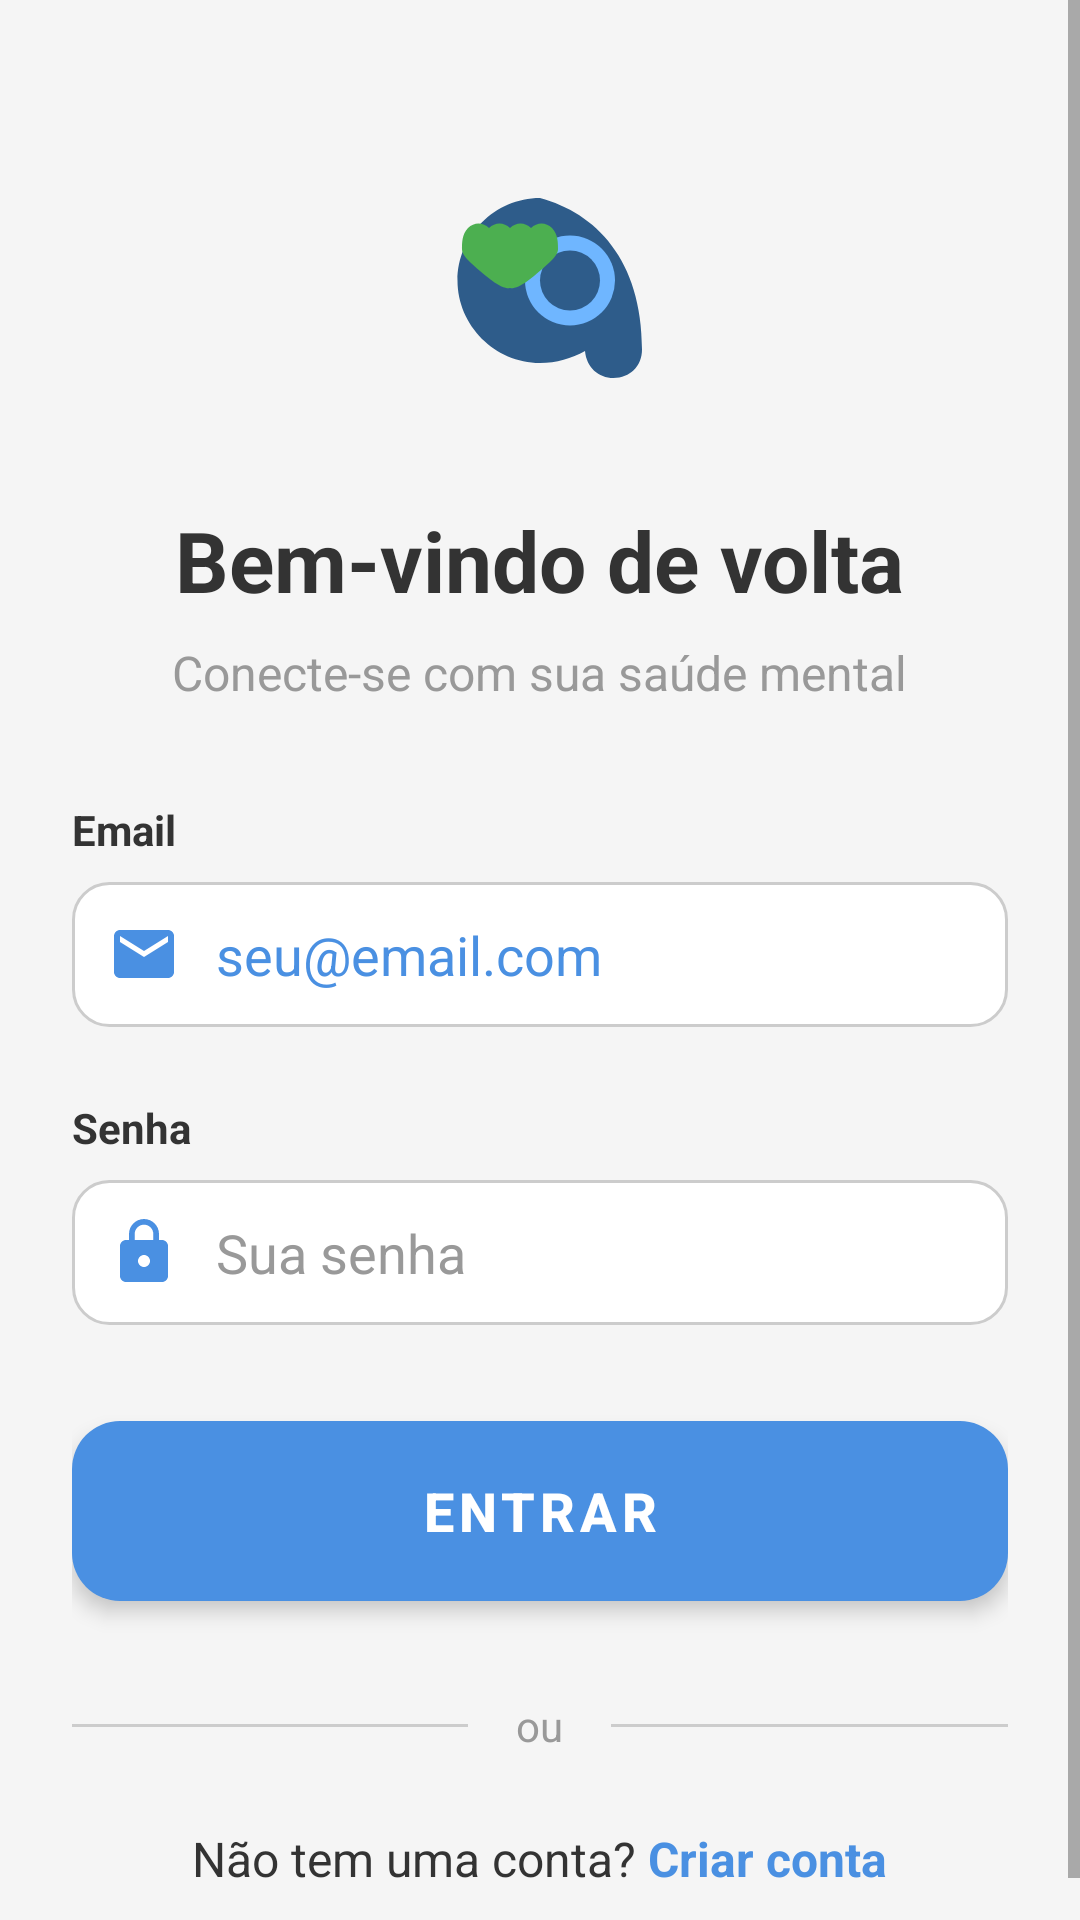

Icons on this 1080px x 1920px Android screen, each with its box as (x1, y1, x2, y2):
lock: (120, 1219, 168, 1282)
